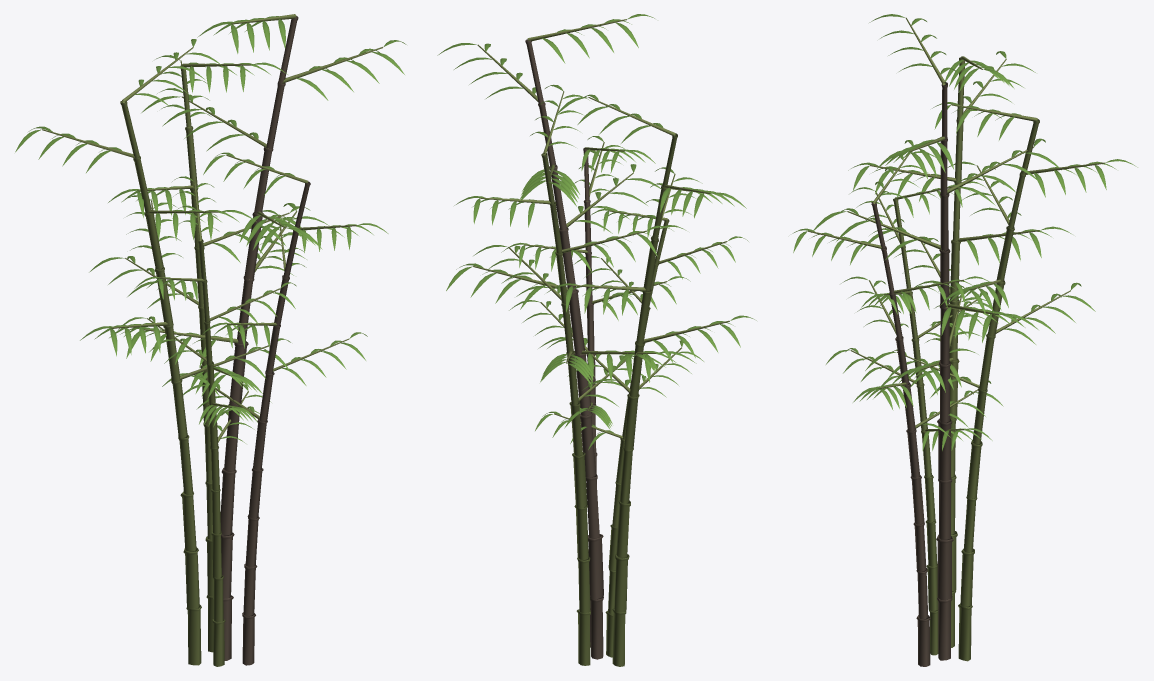
File: Giant Reed Bamboo.glb
3 renders of one model, left to right at view 1: azimuth 30°, elevation 25°; view 2: azimuth 150°, elevation 25°; view 3: azimuth 270°, elevation 25°, orthographic. The views are drawn at different scales.
Visible parts, largest first — view 1: Giant Reed Bamboo; view 2: Giant Reed Bamboo; view 3: Giant Reed Bamboo.
Part boxes in pixels (left/top/right/bottom): Giant Reed Bamboo: left=15, top=14, right=406, bottom=666; Giant Reed Bamboo: left=437, top=14, right=756, bottom=666; Giant Reed Bamboo: left=792, top=14, right=1137, bottom=666.
Size of the model in its own units: 7.58 by 13.21 by 6.62.
